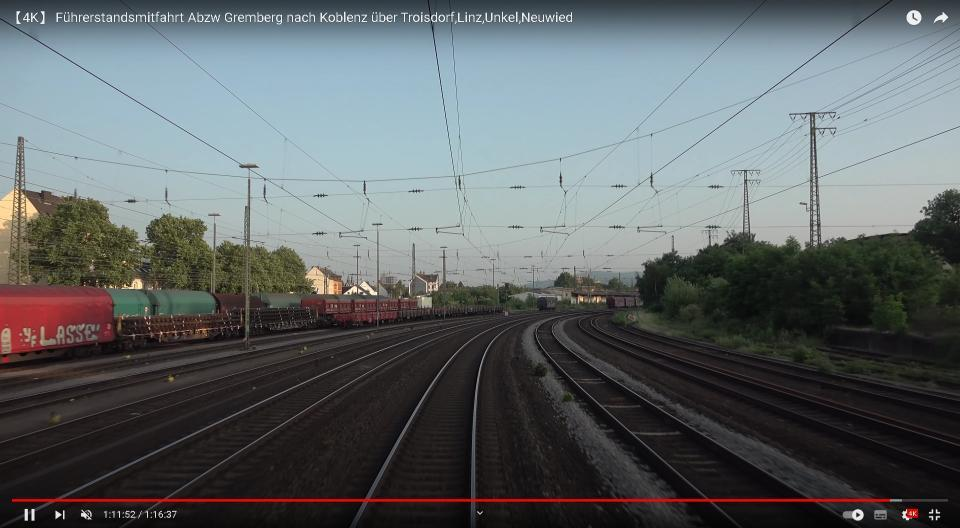Plant: (533, 363, 548, 377), (564, 391, 572, 401)
